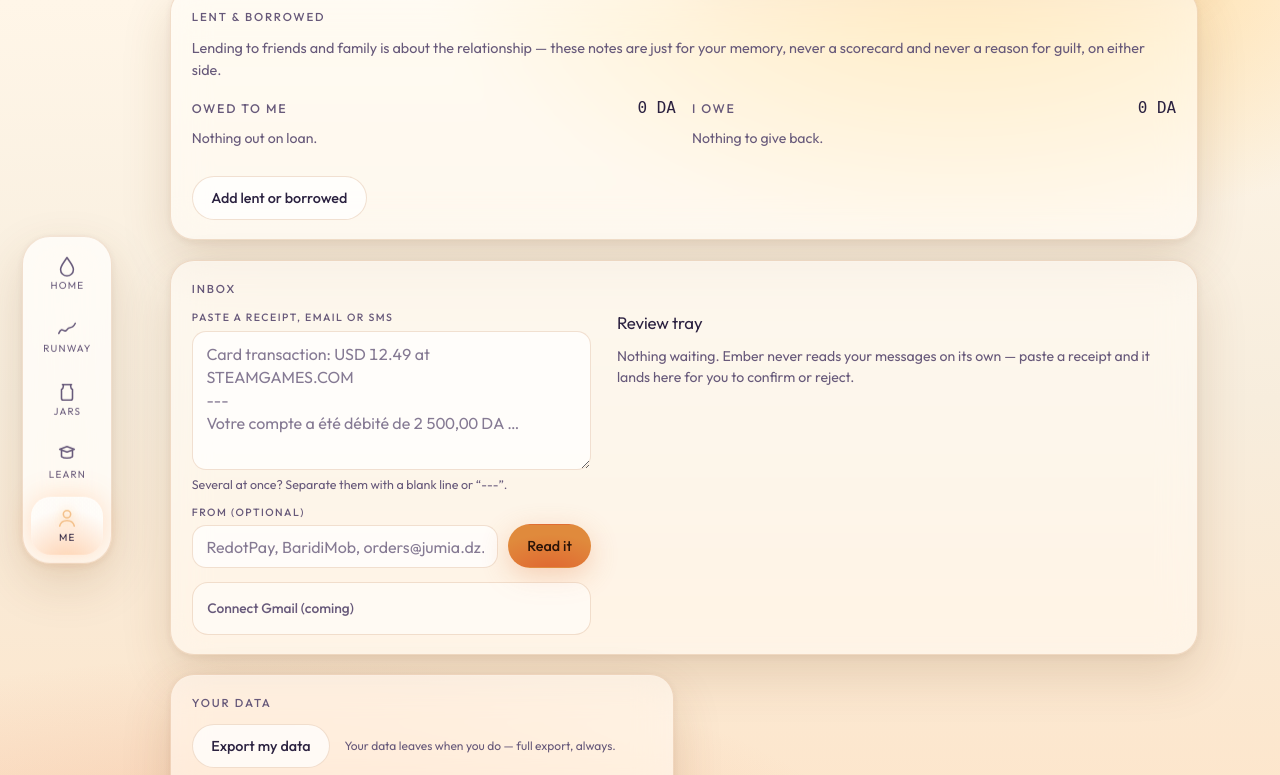
Test: Inbox on the Me room › says kindly when it cannot find an amount, and saves nothing
(page scrolled)
Replace the text in the text box labelled "Paste a receipt, email or SMS" with "See you tomorrow at the café!" at x=392, y=401, box x1=192 y1=331 x2=591 y2=470
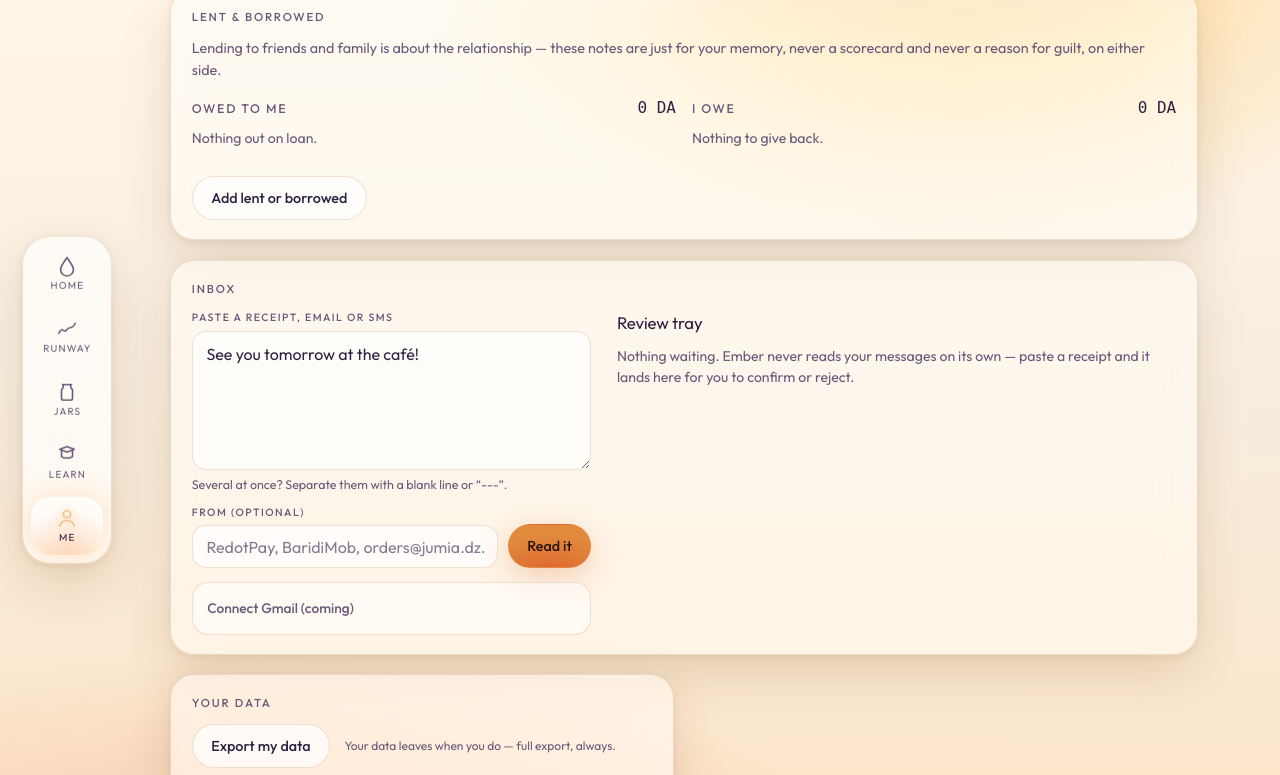
Click the button "Read it" at x=550, y=546, box x1=508 y1=524 x2=591 y2=568
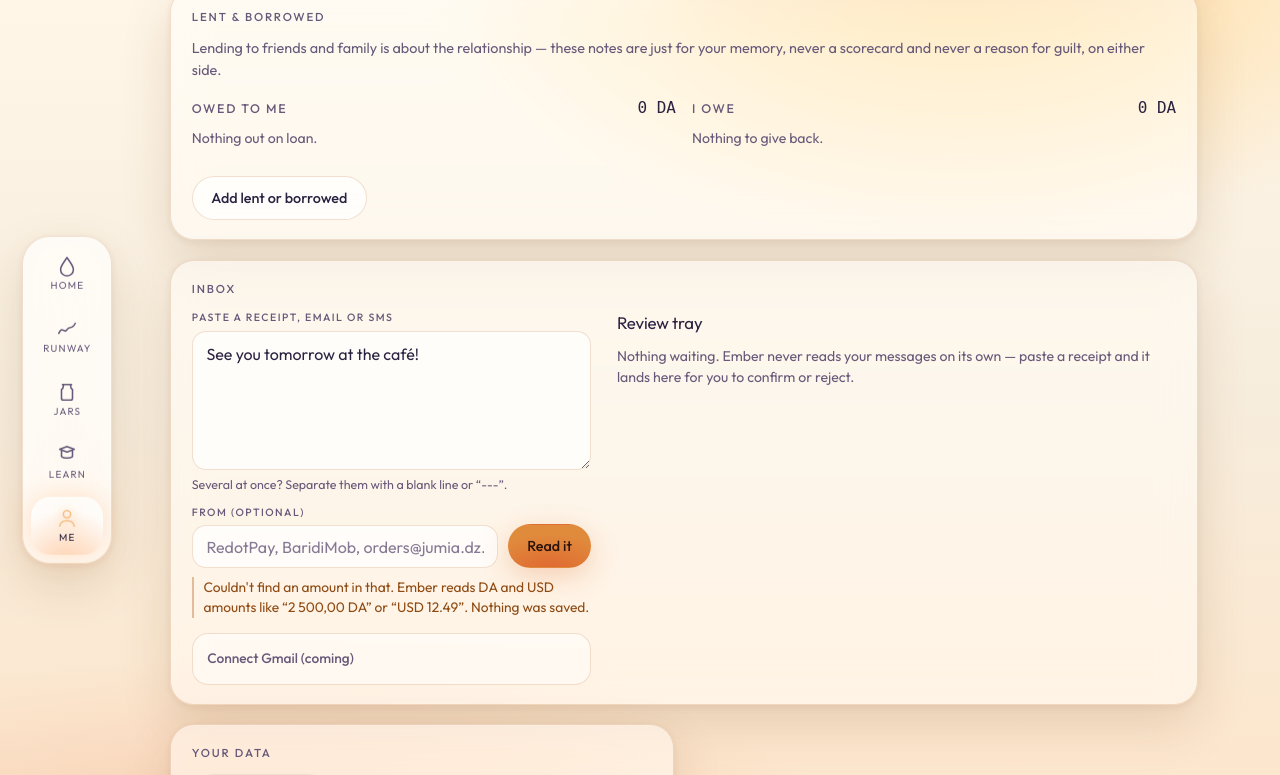
Expected: the text "Couldn't find an amount" is shown, x1=203 y1=578 x2=589 y2=616
